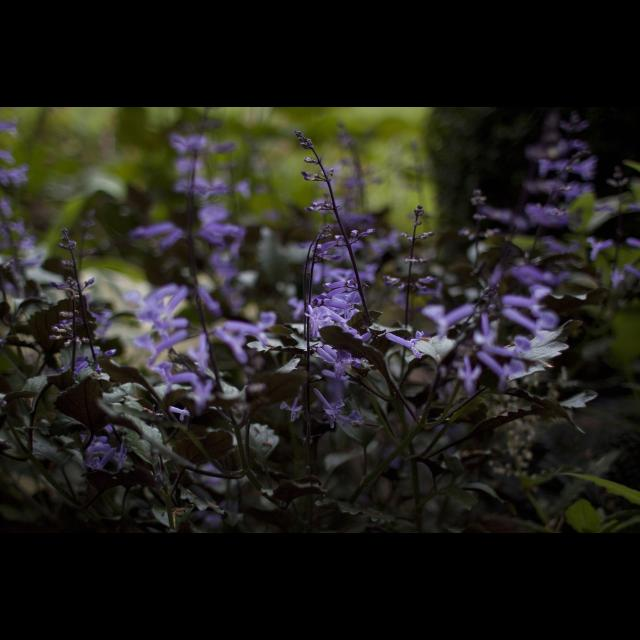Flower: (1, 113, 640, 475), (456, 351, 480, 392)
